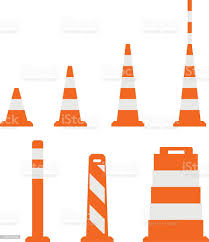cones: (107, 43, 148, 130), (168, 49, 208, 130), (27, 139, 57, 242), (53, 63, 90, 131), (1, 88, 34, 129)
